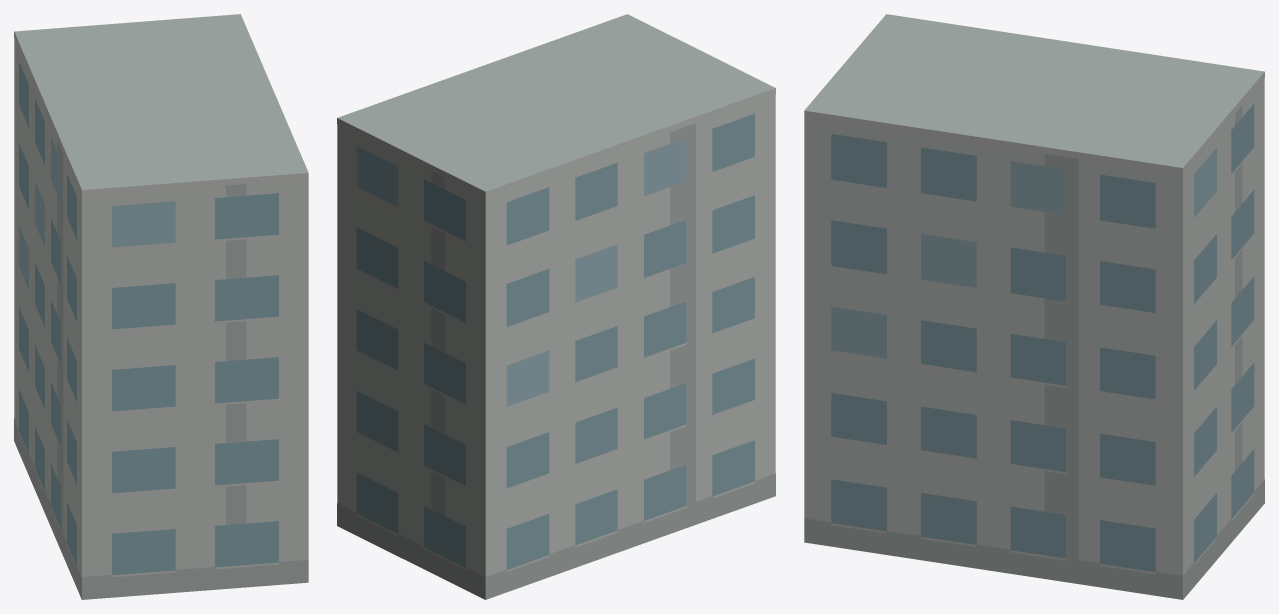
Rendered from residential-2afc6bb5-2d69-4187-9626-a3ebb6e614c1.glb.
The picture shows the model from 3 angles, left to right: view 1: azimuth 30°, elevation 25°; view 2: azimuth 150°, elevation 25°; view 3: azimuth 270°, elevation 25°; orthographic projection. The views are drawn at different scales.
Parts seen in each view (by area): view 1: residential-2afc6bb5-2d69-4187-9626-a3ebb6e614c1.tmp; view 2: residential-2afc6bb5-2d69-4187-9626-a3ebb6e614c1.tmp; view 3: residential-2afc6bb5-2d69-4187-9626-a3ebb6e614c1.tmp.
Part boxes in pixels (box(x1,y1,x2,y2)): residential-2afc6bb5-2d69-4187-9626-a3ebb6e614c1.tmp: box(14, 14, 308, 599); residential-2afc6bb5-2d69-4187-9626-a3ebb6e614c1.tmp: box(337, 14, 775, 599); residential-2afc6bb5-2d69-4187-9626-a3ebb6e614c1.tmp: box(804, 14, 1264, 599).
Bounding box in the file's own units: 11.68 × 15.25 × 14.75.
